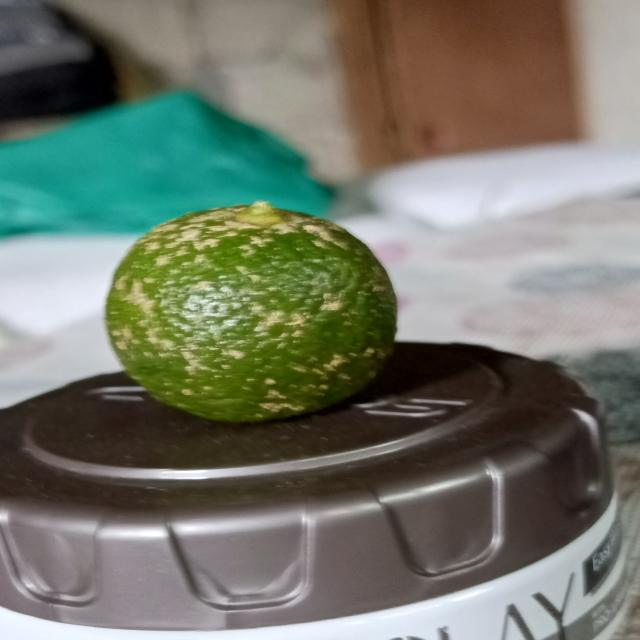scab: (87, 186, 419, 430)
